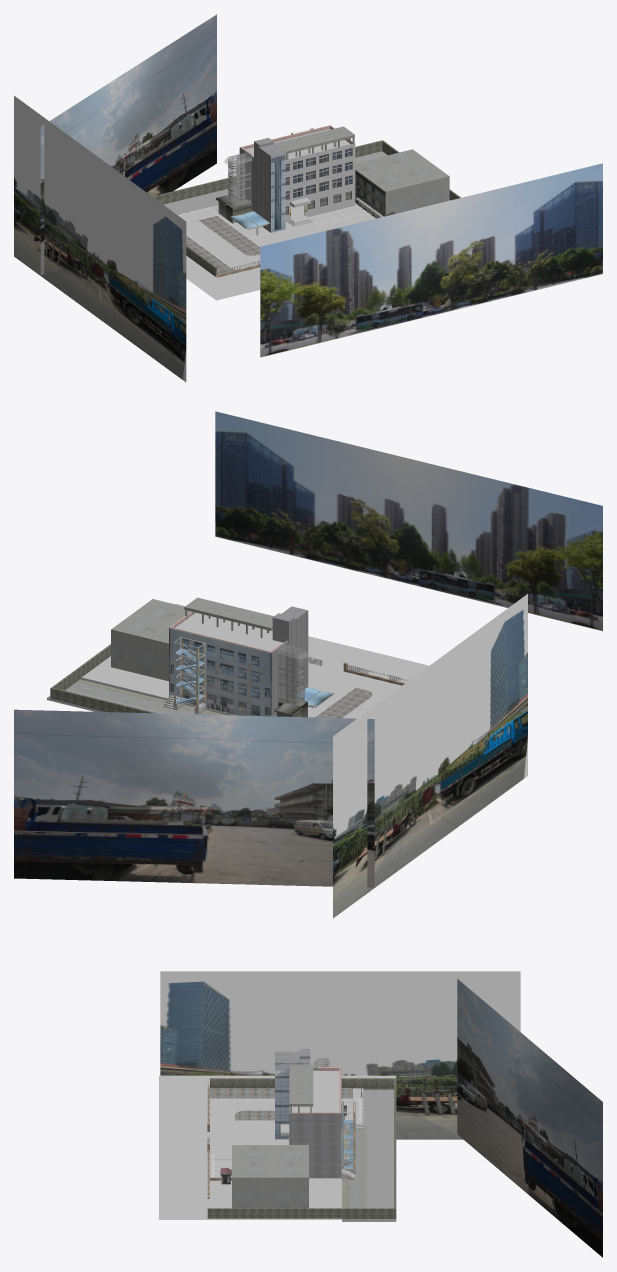
The model's file is 外部分离.fbx.
3 views of the same model, one above another, from view 1: azimuth 30°, elevation 25°; view 2: azimuth 150°, elevation 25°; view 3: azimuth 270°, elevation 25° (orthographic). The views are drawn at different scales.
Visible parts, largest first — view 1: pPlane1, pPlane2, pPlane3, dimian, pCube7, polySurface274, zuofang1, pCube18, cpdm, dianti, ding, zuoxiaofang; view 2: pPlane3, pPlane1, pPlane2, dimian, polySurface249, pCube7, zuofang1, shangdimian, pCube18, dianti, futi, ding (+2 smaller); view 3: pPlane2, pPlane3, dimian, pCube7, pCube18, polySurface274, zuofang1, cpdm, shangdimian, ding, futi.
Boxes of the visible parts, x1,y1,x2,y2 form: pPlane1: (260,163,602,357); pPlane2: (14,95,186,382); pPlane3: (40,14,216,275); dimian: (163,151,450,300); pCube7: (355,149,449,218); polySurface274: (239,143,355,222); zuofang1: (254,138,285,232); pCube18: (152,140,460,276); cpdm: (186,216,260,274); dianti: (224,152,252,206); ding: (274,126,354,153); zuoxiaofang: (216,194,252,223); pPlane3: (14,709,374,887); pPlane1: (215,411,602,631); pPlane2: (333,594,527,918); dimian: (47,603,428,718); polySurface249: (169,628,271,716); pCube7: (111,599,190,681); zuofang1: (272,606,308,697); shangdimian: (175,612,283,650); pCube18: (50,644,156,713); dianti: (277,644,308,705); futi: (174,637,205,708); ding: (184,597,273,630); pPlane2: (160,971,520,1139); pPlane3: (457,979,602,1257); dimian: (159,1075,396,1221); pCube7: (232,1145,308,1208); pCube18: (207,1078,396,1219); polySurface274: (289,1067,341,1178); zuofang1: (275,1049,310,1139); cpdm: (209,1088,352,1120); shangdimian: (292,1070,339,1112); ding: (289,1065,313,1106); futi: (342,1101,355,1168).
Bounding box in the file's own units: 11784 × 5965 × 16366.
